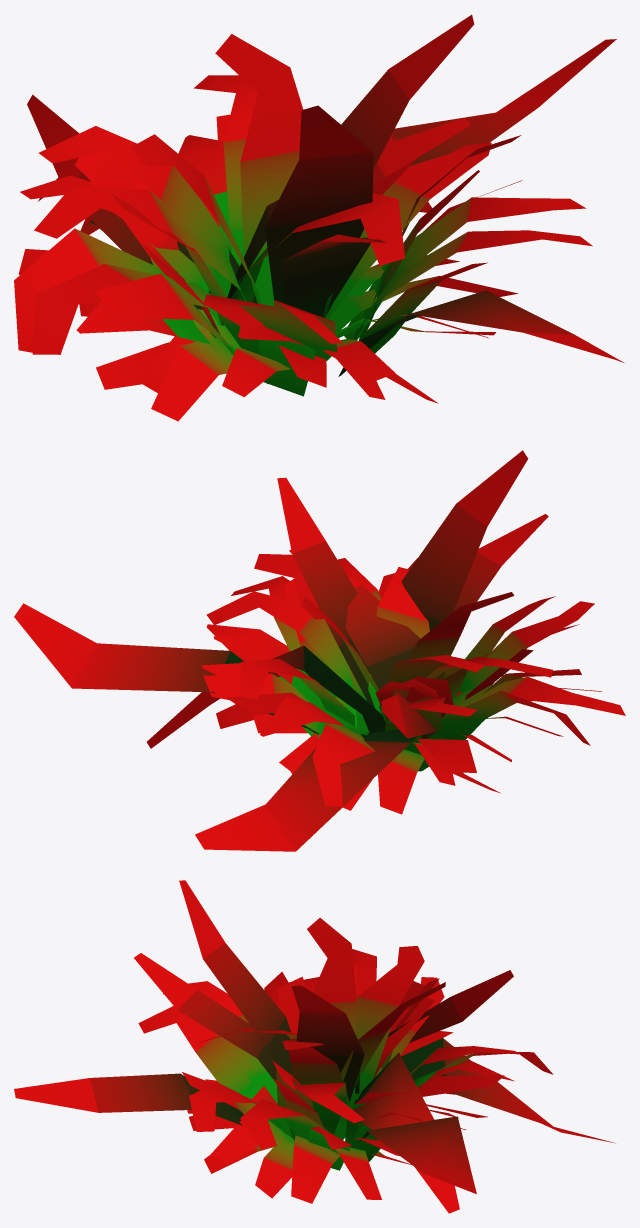
Rendered from Boston Fern_LOD3_Var3_rhDrC.fbx.
3 views of the same model, one above another, from view 1: azimuth 30°, elevation 25°; view 2: azimuth 150°, elevation 25°; view 3: azimuth 270°, elevation 25° (orthographic). The views are drawn at different scales.
Visible parts, largest first — view 1: _31df_Var3_LOD3; view 2: _31df_Var3_LOD3; view 3: _31df_Var3_LOD3.
Boxes of the visible parts, <box> form: _31df_Var3_LOD3: <box>14,14,623,421</box>; _31df_Var3_LOD3: <box>14,450,625,851</box>; _31df_Var3_LOD3: <box>14,880,615,1213</box>.
Size of the model in its own units: 16.33 by 7.84 by 17.81.
